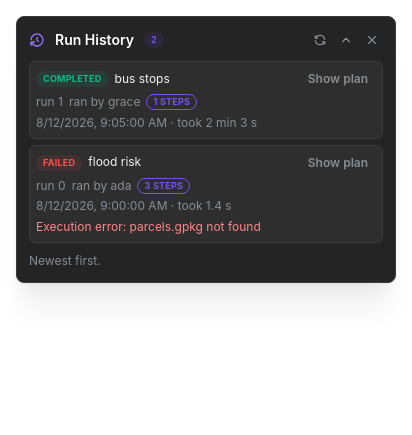
Scenario: RunHistoryPanel › shows the executed plan and each step outcome only once the run is opened
The width and height of the screenshot is (412, 435).
Click the button "Show plan" next to "flood risk" at (338, 163), box [300,152,376,174]
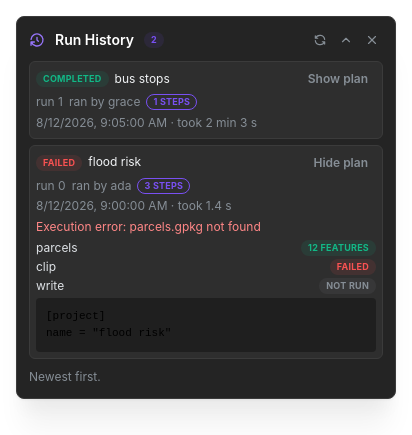
Result: the text with test id "run-0-manifest" shows "name = \"flood risk\"" at [46,310,171,339]
Result: the number of elements with test id "run-step" is 3 at [36,240,376,257]; [36,259,376,276]; [36,278,376,294]
Result: the element with test id "run-step" shows "12 features" at [308,242,369,253]
